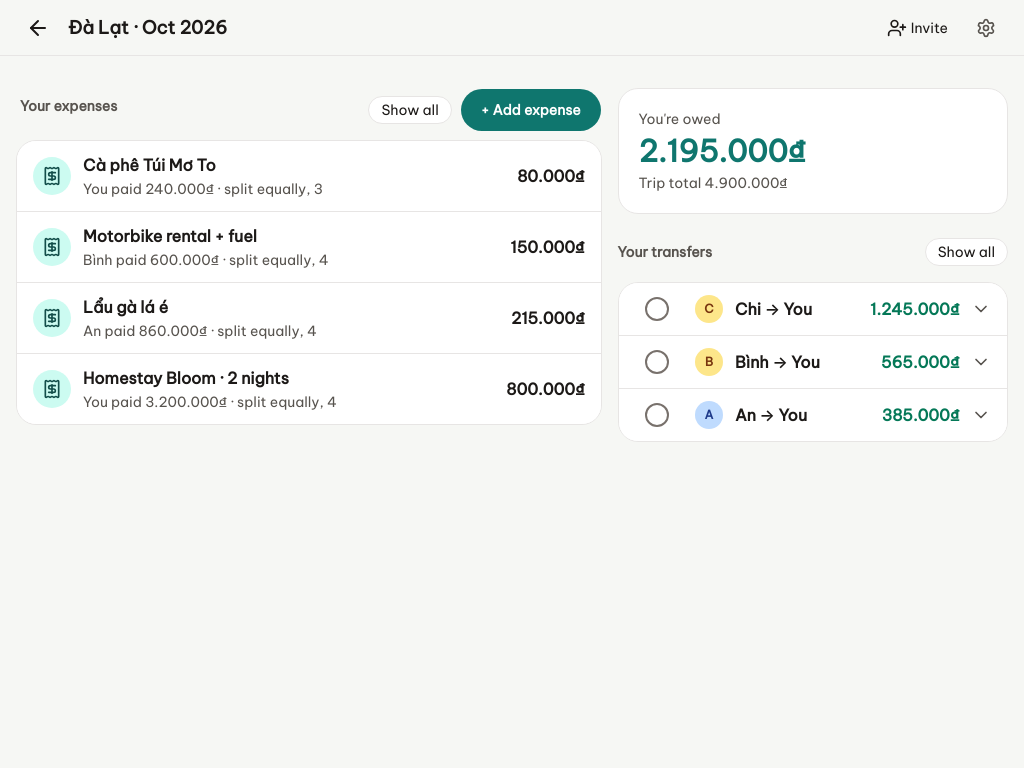
Test: crossing 1024px with a tick pending › Undo still cancels it after the switch, both ways
This screenshot has width=1024, height=768.
Click the button named "Mark 385.000₫ from An as received".
click(657, 415)  # box [635, 393, 679, 437]
Wait 2000 ms
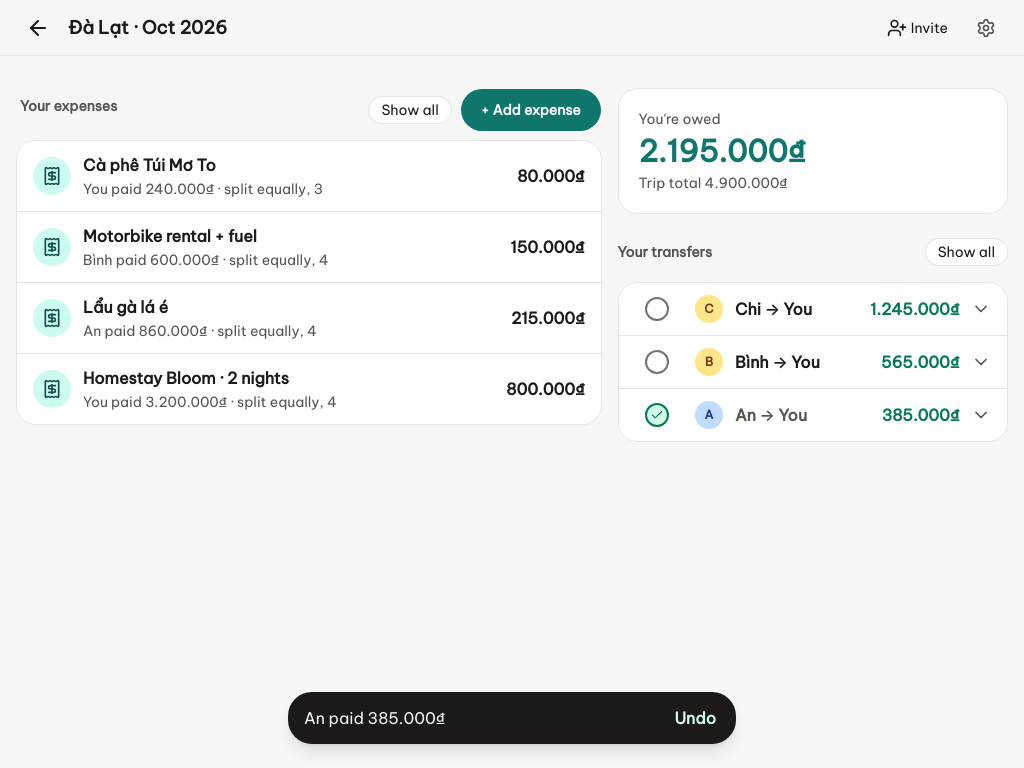
Click the button "Undo".
click(695, 718)  # box [662, 696, 728, 740]
Wait 10000 ms
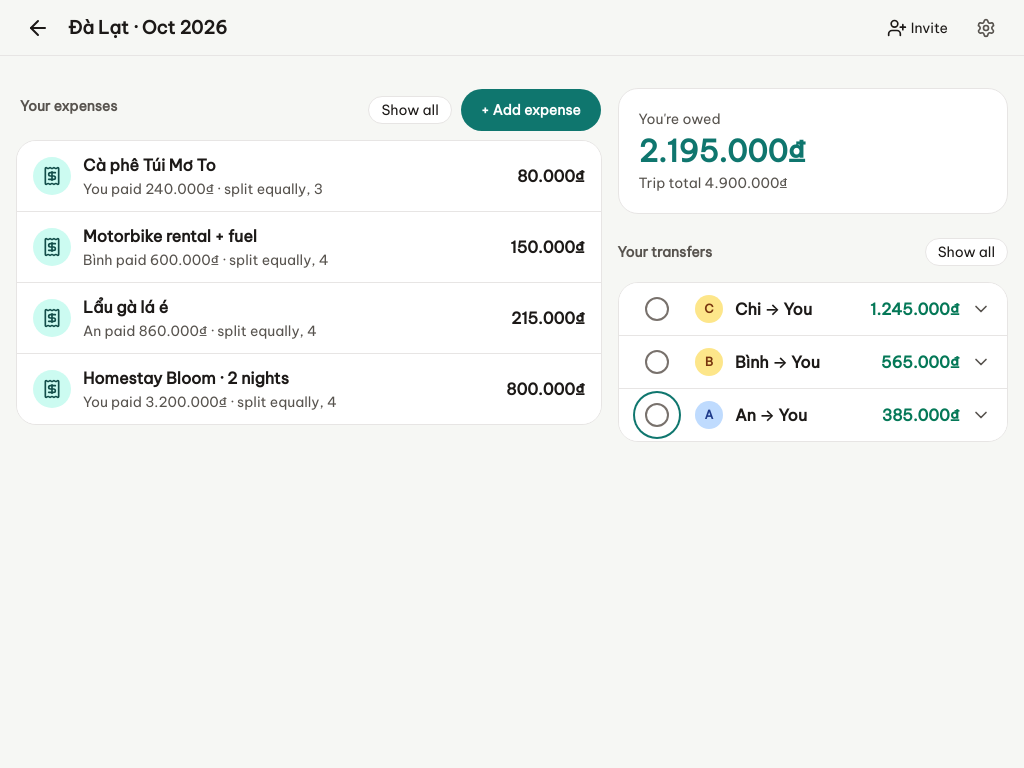
Result: the message "An paid 385.000₫ Undo" is gone
